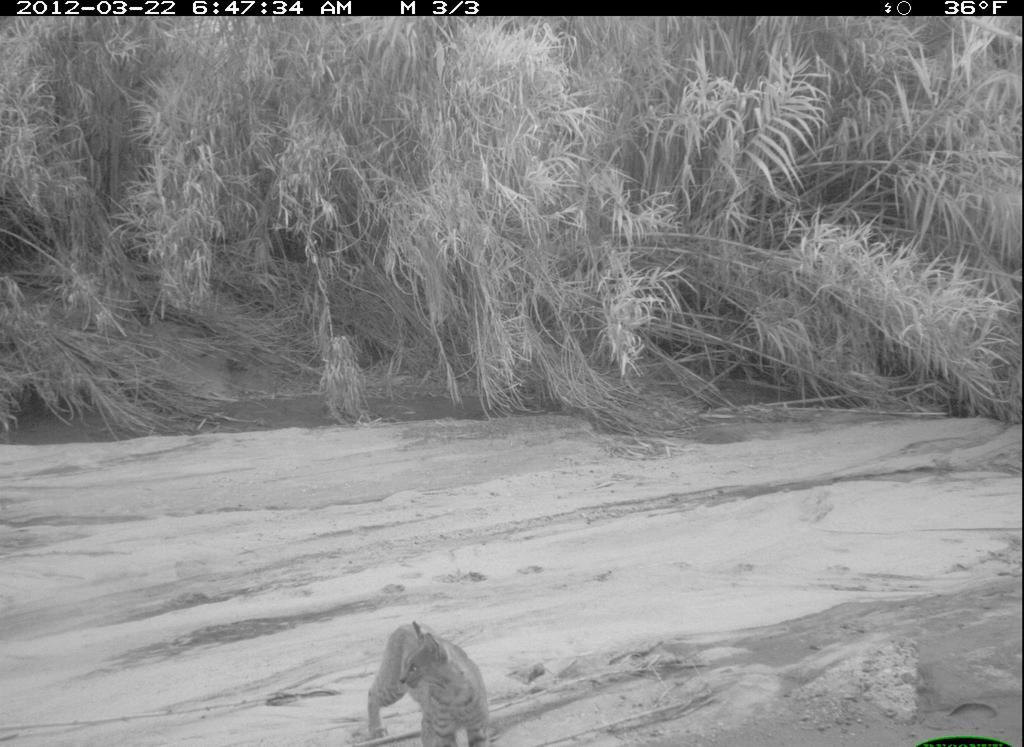bobcat: (345, 615, 529, 747)
